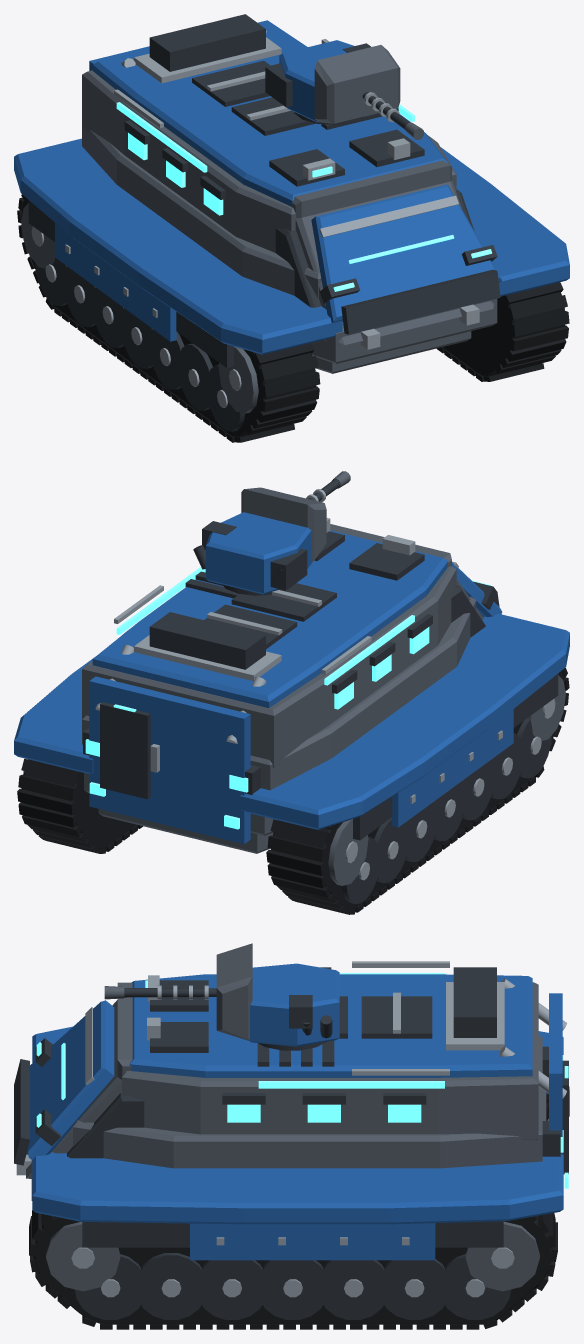
The model's file is drover-apc.glb.
The picture shows the model from 3 angles, top to bottom: view 1: azimuth 30°, elevation 25°; view 2: azimuth 150°, elevation 25°; view 3: azimuth 270°, elevation 25°; orthographic projection. The views are drawn at different scales.
Visible parts, largest first — view 1: track_guard, rear_drive, road_wheel_0, track_belt, wheel_hub_0, bow_glow; view 2: track_guard, road_wheel_0, rear_drive, track_belt, wheel_hub_0, bow_glow; view 3: track_guard, rear_drive, road_wheel_0, track_belt, wheel_hub_0, bow_glow.
Part boxes in pixels (bbox=[...]): track_guard: bbox=[14, 20, 569, 354]; rear_drive: bbox=[21, 45, 564, 413]; road_wheel_0: bbox=[28, 14, 500, 431]; track_belt: bbox=[17, 194, 569, 442]; wheel_hub_0: bbox=[31, 30, 479, 407]; bow_glow: bbox=[116, 102, 491, 291]; track_guard: bbox=[14, 512, 569, 843]; road_wheel_0: bbox=[83, 479, 558, 903]; rear_drive: bbox=[21, 471, 565, 885]; track_belt: bbox=[17, 668, 569, 914]; wheel_hub_0: bbox=[95, 489, 555, 880]; bow_glow: bbox=[85, 567, 490, 829]; track_guard: bbox=[28, 963, 563, 1260]; rear_drive: bbox=[26, 943, 546, 1291]; road_wheel_0: bbox=[14, 967, 568, 1319]; track_belt: bbox=[29, 1094, 557, 1329]; wheel_hub_0: bbox=[16, 961, 569, 1297]; bow_glow: bbox=[36, 973, 568, 1188].
Bounding box in the file's own units: 4.44 × 3.49 × 5.67.
